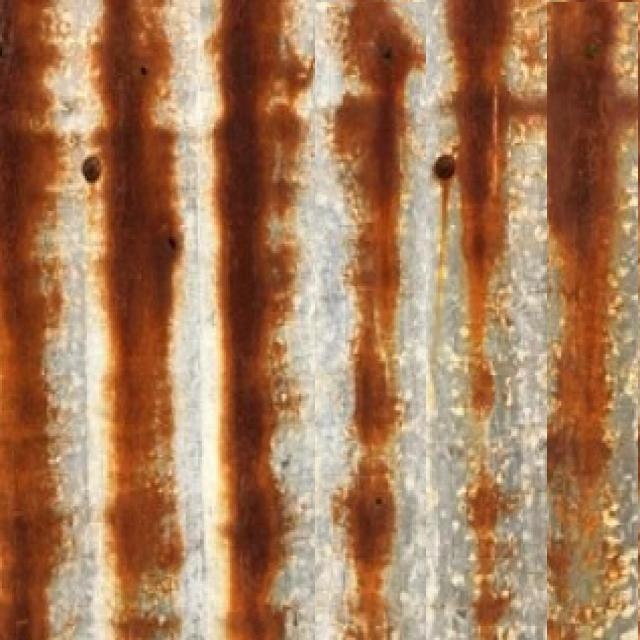Corrosion: (215, 0, 311, 640), (335, 0, 424, 640), (97, 0, 181, 640), (549, 0, 623, 640), (0, 0, 59, 640), (449, 0, 489, 362)
